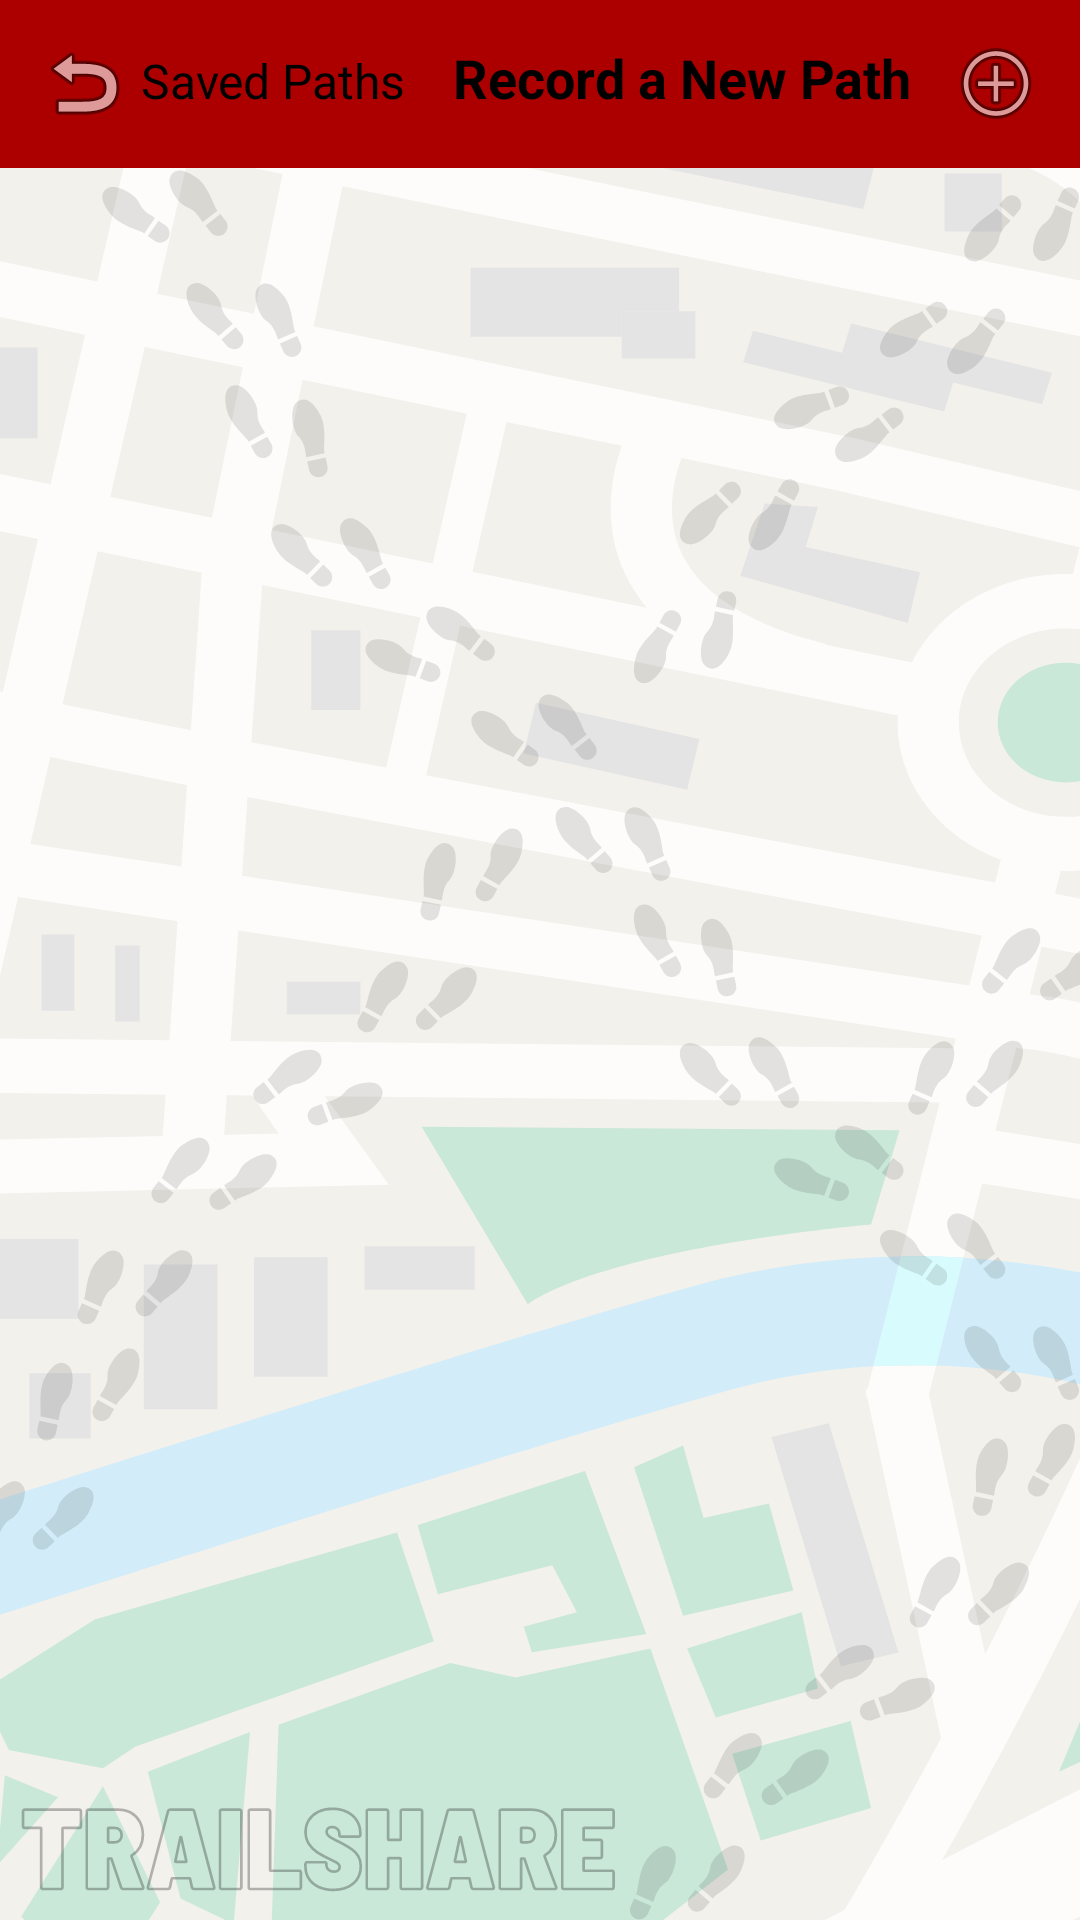

Where icons sit on this 1080px×1920px app screen, as (x1, y1, x2, y2):
add: (961, 48, 1031, 119)
revert: (51, 52, 168, 115)
